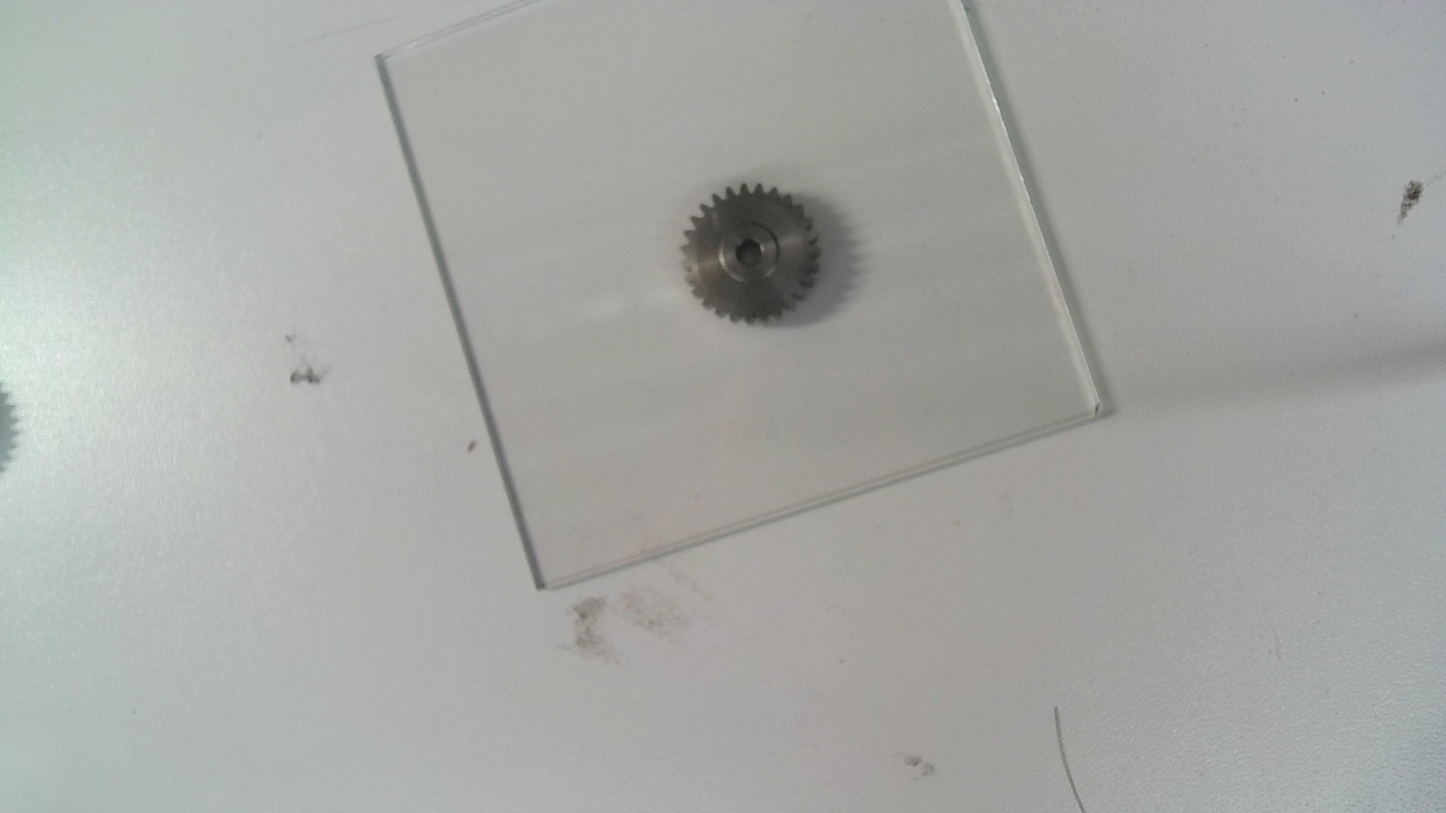gear: (676, 178, 825, 329)
